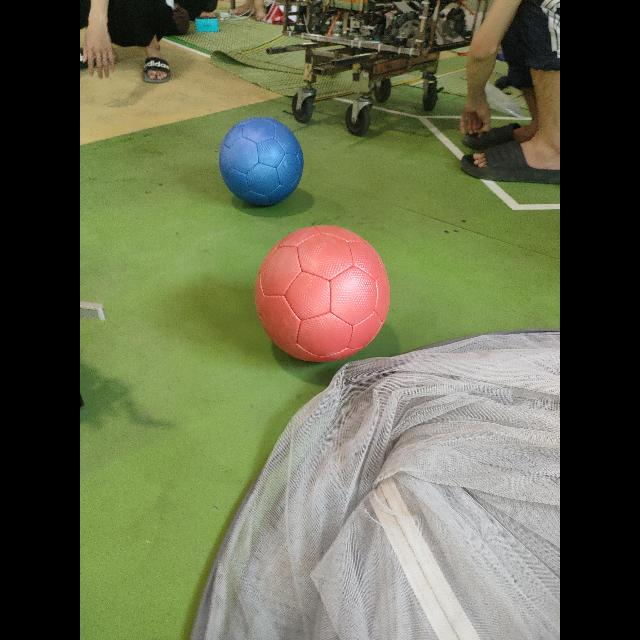B: (218, 118, 305, 210)
R: (254, 225, 391, 366)
